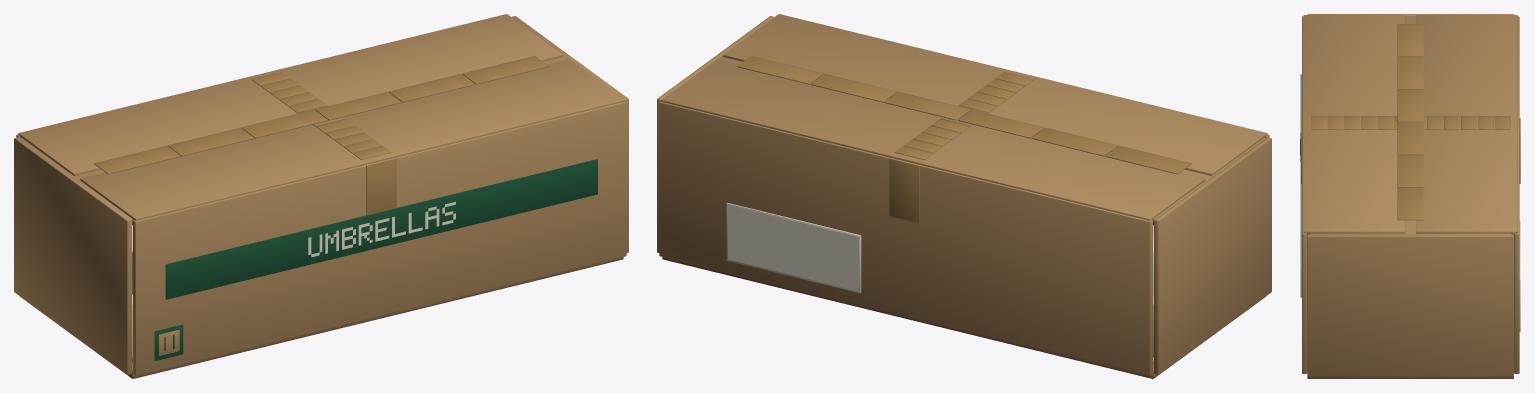
The model's file is delivery_umbrella_carton.glb.
3 views of the same model, side by side, from view 1: azimuth 30°, elevation 25°; view 2: azimuth 150°, elevation 25°; view 3: azimuth 270°, elevation 25° (orthographic). The views are drawn at different scales.
Parts seen in each view (by area): view 1: BOX_FRONT, FLAP_TOP_FRONT, FLAP_TOP_BACK, BOX_LEFT, LABEL_MAIN, TAPE_CENTER, BOX_BASE, TAPE_SIDE_FRONT, LABEL_CATEGORY_TEXT, TAPE_CROSS_SEG_02, TAPE_CROSS_SEG_03, TAPE_CROSS_SEG_06 (+4 smaller); view 2: BOX_BACK, FLAP_TOP_BACK, FLAP_TOP_FRONT, BOX_LEFT, LABEL_DYNAMIC, TAPE_CENTER, TAPE_SIDE_BACK, BOX_BASE, TAPE_CROSS_SEG_02, TAPE_CROSS_SEG_03, TAPE_CROSS_SEG_06, TAPE_CROSS_SEG_01 (+4 smaller); view 3: BOX_RIGHT, FLAP_TOP_FRONT, FLAP_TOP_BACK, TAPE_CENTER, BOX_BACK, BOX_FRONT, TAPE_CROSS_SEG_05, TAPE_CROSS_SEG_02, TAPE_CROSS_SEG_06, TAPE_CROSS_SEG_01, TAPE_CROSS_SEG_04, TAPE_CROSS_SEG_03 (+5 smaller).
Part boxes in pixels (box(x1,y1,x2,y2)): BOX_FRONT: box(133, 101, 626, 375); FLAP_TOP_FRONT: box(80, 59, 624, 220); FLAP_TOP_BACK: box(18, 14, 562, 175); BOX_LEFT: box(14, 137, 131, 374); LABEL_MAIN: box(165, 159, 597, 299); TAPE_CENTER: box(251, 72, 391, 159); BOX_BASE: box(20, 257, 623, 378); TAPE_SIDE_FRONT: box(366, 158, 396, 215); LABEL_CATEGORY_TEXT: box(308, 201, 455, 257); TAPE_CROSS_SEG_02: box(167, 128, 254, 156); TAPE_CROSS_SEG_03: box(241, 109, 327, 138); TAPE_CROSS_SEG_06: box(462, 56, 548, 84); BOX_BACK: box(659, 101, 1152, 375); FLAP_TOP_BACK: box(661, 59, 1205, 220); FLAP_TOP_FRONT: box(723, 14, 1267, 175); BOX_LEFT: box(1154, 137, 1271, 374); LABEL_DYNAMIC: box(728, 205, 858, 291); TAPE_CENTER: box(894, 72, 1034, 159); TAPE_SIDE_BACK: box(889, 158, 919, 223); BOX_BASE: box(662, 257, 1265, 378); TAPE_CROSS_SEG_02: box(1031, 128, 1118, 156); TAPE_CROSS_SEG_03: box(958, 109, 1044, 138); TAPE_CROSS_SEG_06: box(737, 56, 823, 84); TAPE_CROSS_SEG_01: box(1105, 145, 1191, 174); BOX_RIGHT: box(1307, 234, 1513, 376); FLAP_TOP_FRONT: box(1303, 15, 1405, 234); FLAP_TOP_BACK: box(1416, 15, 1517, 234); TAPE_CENTER: box(1311, 116, 1510, 129); BOX_BACK: box(1514, 16, 1519, 373); BOX_FRONT: box(1302, 16, 1307, 373); TAPE_CROSS_SEG_05: box(1397, 154, 1423, 187); TAPE_CROSS_SEG_02: box(1397, 56, 1423, 89); TAPE_CROSS_SEG_06: box(1397, 187, 1423, 220); TAPE_CROSS_SEG_01: box(1397, 24, 1423, 56); TAPE_CROSS_SEG_04: box(1397, 122, 1423, 154); TAPE_CROSS_SEG_03: box(1397, 89, 1423, 121).
Size of what is drawn, in the model's own units: 0.92 by 0.2862 by 0.3852.
